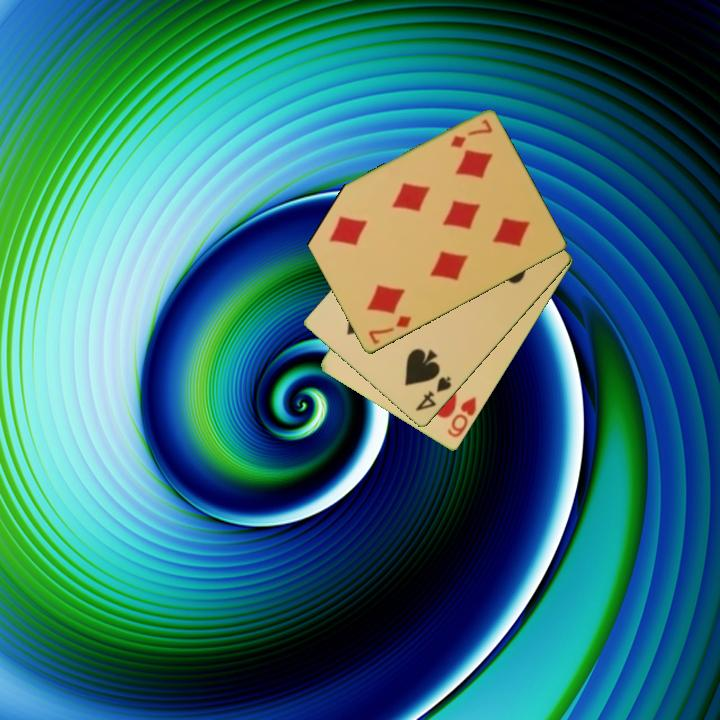4s: (412, 373, 455, 414)
6h: (444, 393, 480, 441)
7d: (365, 312, 414, 347), (446, 116, 495, 151)
